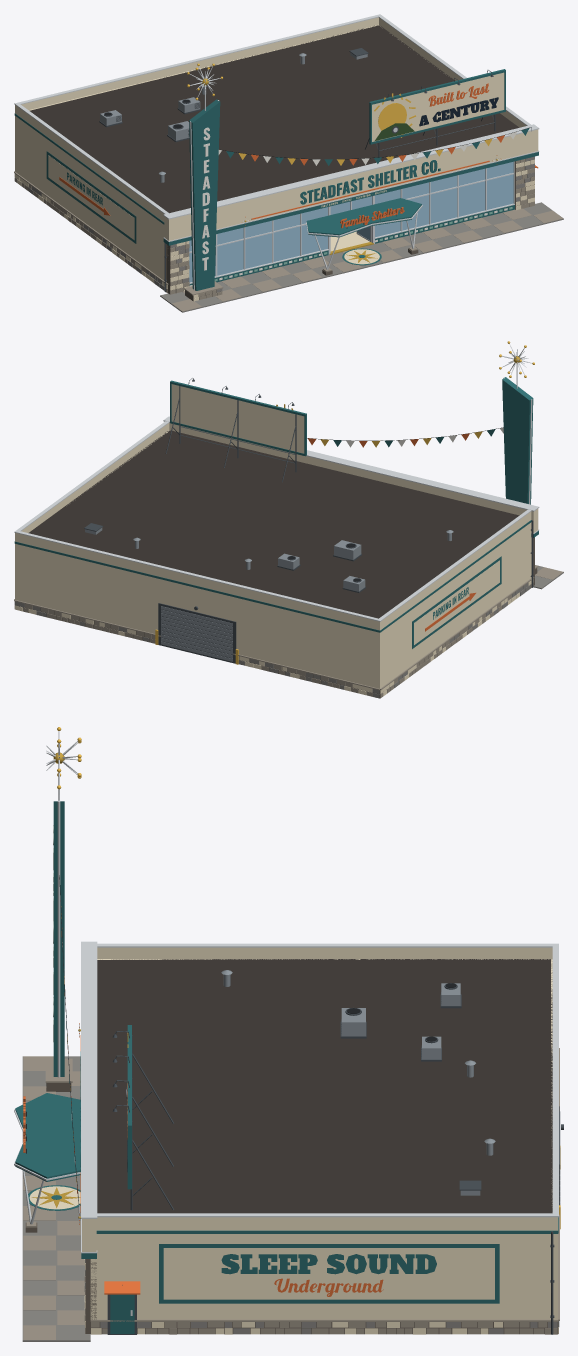
File: Lobby_Showroom.fbx
3 views of the same model, one above another, from view 1: azimuth 30°, elevation 25°; view 2: azimuth 150°, elevation 25°; view 3: azimuth 270°, elevation 25° (orthographic). The views are drawn at different scales.
Parts seen in each view (by area): view 1: Decor, Decor2, DecorGlassSkyblue, Decor_; view 2: Decor, Decor2, Decor_; view 3: Decor, Decor2.
Part boxes in pixels (box(x1,y1,x2,y2)): Decor: box(14, 14, 563, 312); Decor2: box(252, 14, 562, 262); DecorGlassSkyblue: box(189, 161, 513, 282); Decor_: box(218, 128, 529, 165); Decor: box(14, 344, 563, 698); Decor2: box(14, 378, 356, 644); Decor_: box(308, 427, 503, 447); Decor: box(14, 731, 563, 1340); Decor2: box(14, 1025, 560, 1341).
Size of the model in its own units: 138 by 79.45 by 113.
